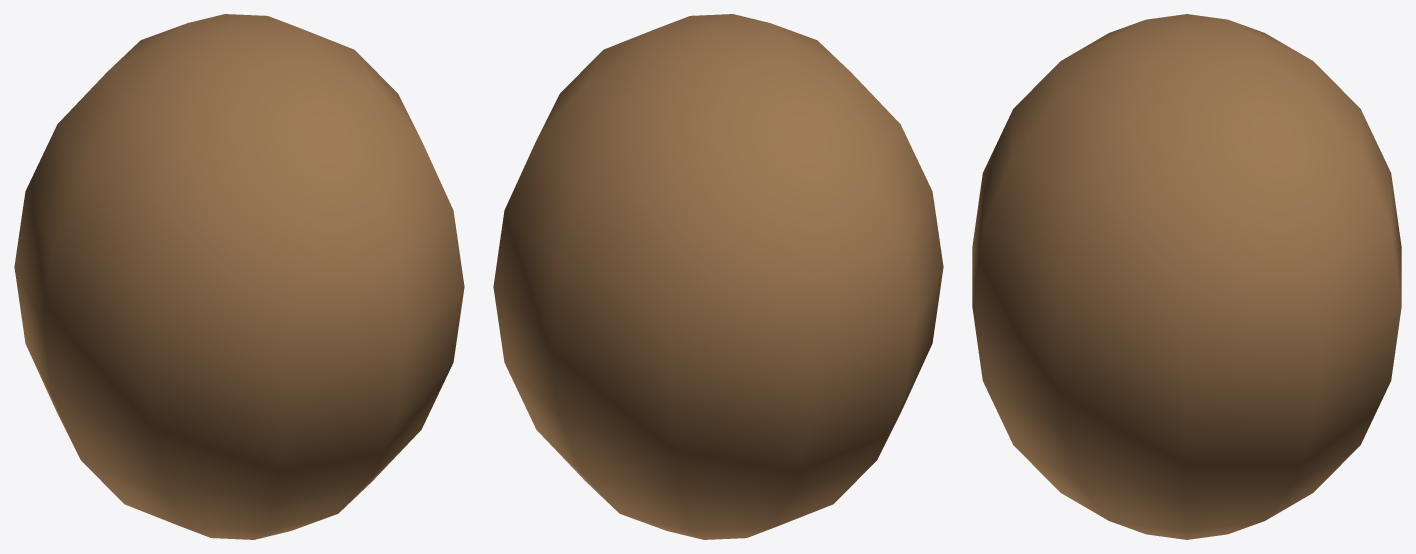
Rendered from Esfingeolito_stage1.obj.
3 renders of one model, left to right at view 1: azimuth 30°, elevation 25°; view 2: azimuth 150°, elevation 25°; view 3: azimuth 270°, elevation 25°, orthographic.
Size of the model in its own units: 1.6 by 1.92 by 1.52.
